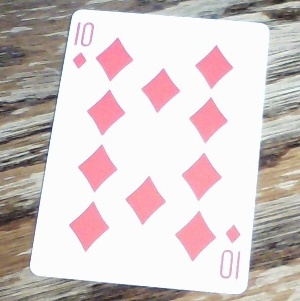card: (29, 7, 271, 294)
